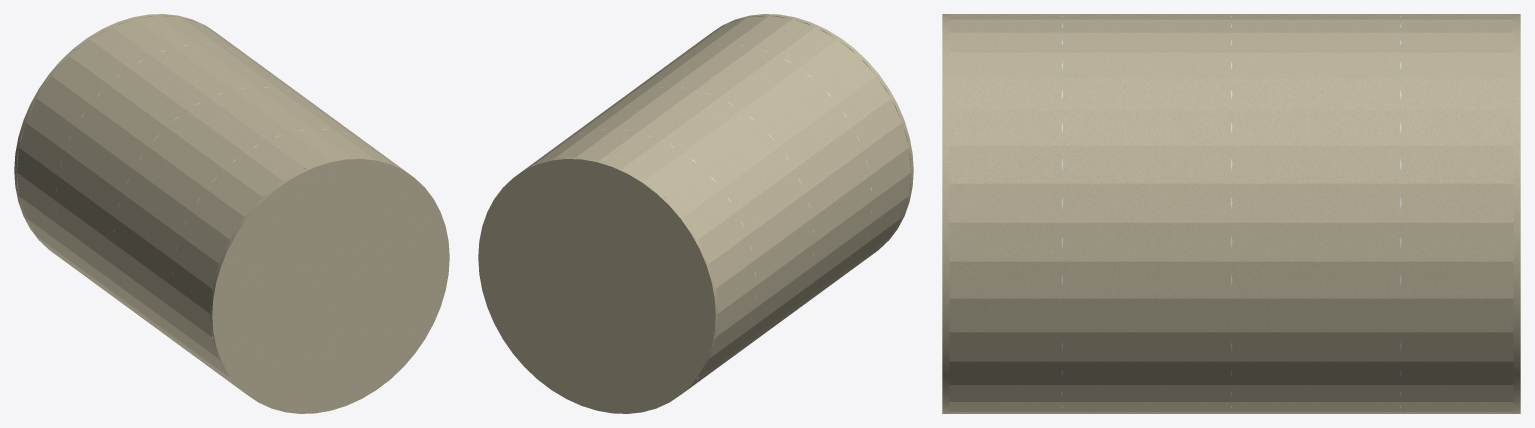
The model's file is beam_optimized.glb.
The picture shows the model from 3 angles, left to right: view 1: azimuth 30°, elevation 25°; view 2: azimuth 150°, elevation 25°; view 3: azimuth 270°, elevation 25°; orthographic projection. The views are drawn at different scales.
Visible parts, largest first — view 1: beam_interior; view 2: beam_interior; view 3: beam_interior.
Part boxes in pixels (left/top/right/bottom): beam_interior: left=14, top=14, right=449, bottom=413; beam_interior: left=478, top=14, right=913, bottom=413; beam_interior: left=942, top=14, right=1520, bottom=413.
Bounding box in the file's own units: 2.84 × 2.84 × 4.1.
Materials: 9 (3 with a texture image).
